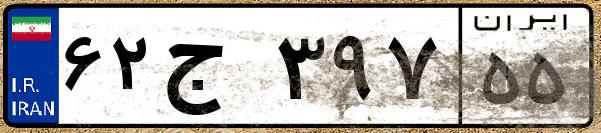2: (110, 28, 158, 98)
3: (270, 28, 330, 110)
5: (475, 38, 525, 113), (525, 38, 570, 115)
6: (57, 26, 110, 100)
7: (385, 28, 445, 110)
9: (330, 28, 385, 110)
ج: (158, 20, 270, 120)
